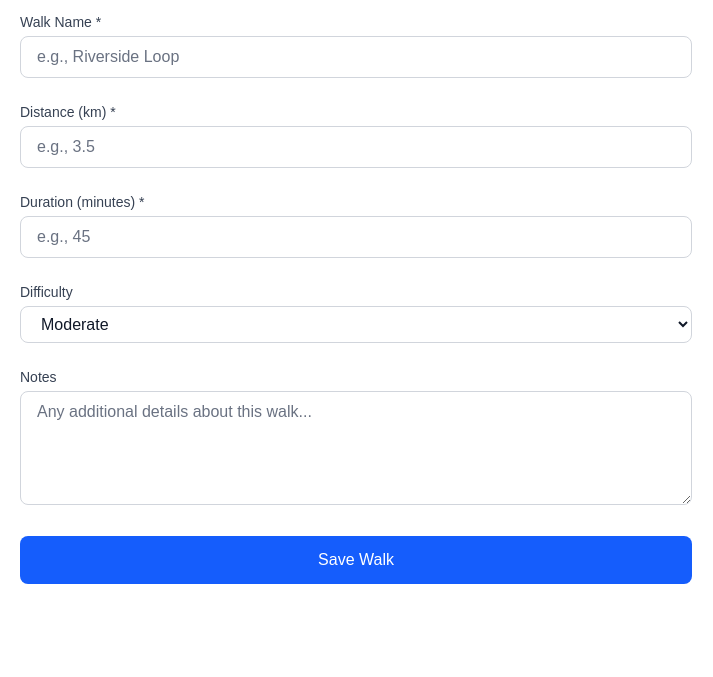
it: AddWalkForm › Validation › clears error when user starts typing in field
The image size is (713, 677).
Note: Submit to trigger error
Click the button "Save Walk": (356, 560) x1=20 y1=536 x2=692 y2=584
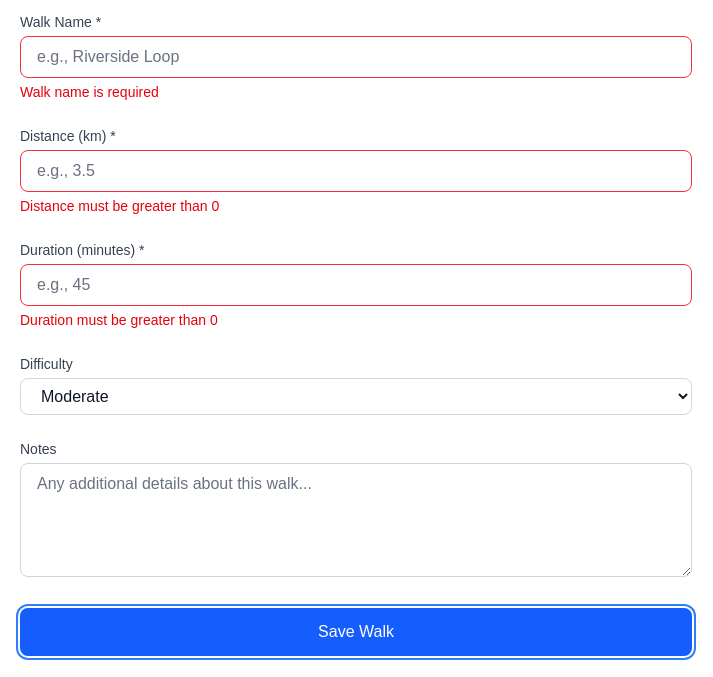
Expected: the text "Walk name is required" is shown, x1=20 y1=84 x2=159 y2=100
Note: Type in field
In the field labelled "Walk Name *": (356, 57) x1=20 y1=36 x2=692 y2=78, type "R"
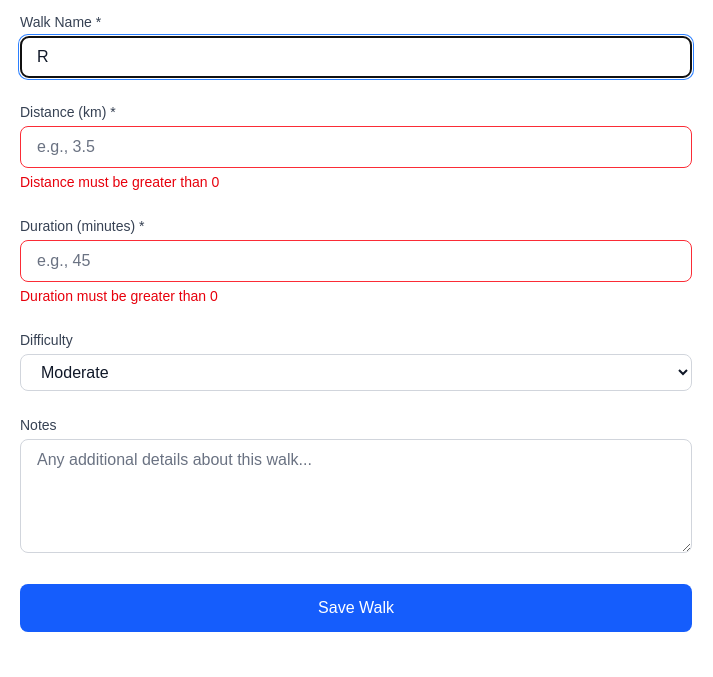
Expected: the text "Walk name is required" is gone
